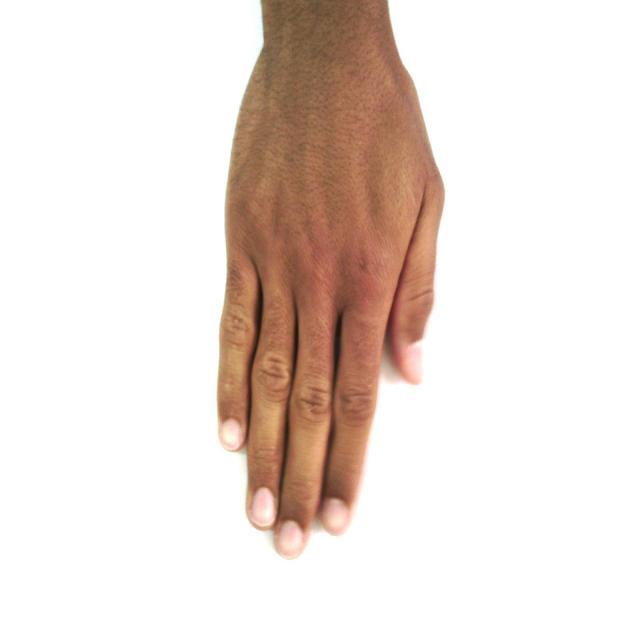Fingernail: (278, 521, 304, 557), (322, 500, 348, 534), (253, 488, 275, 526), (405, 345, 423, 382), (222, 419, 242, 450)
